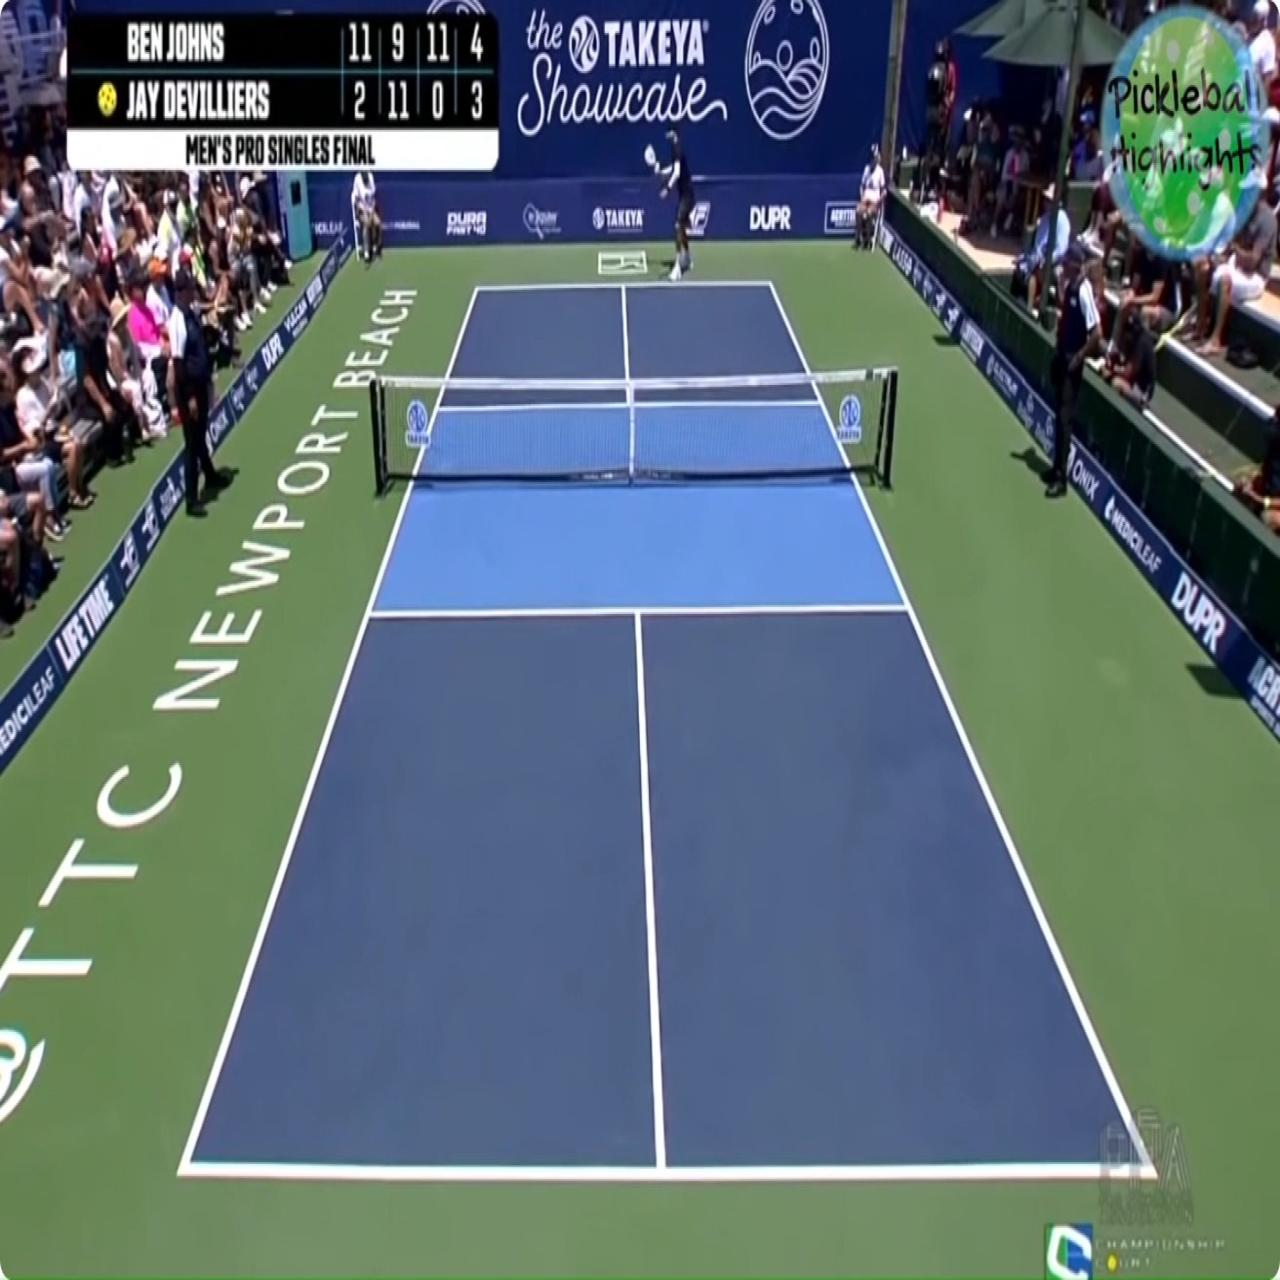pickleball: (654, 162, 661, 175)
